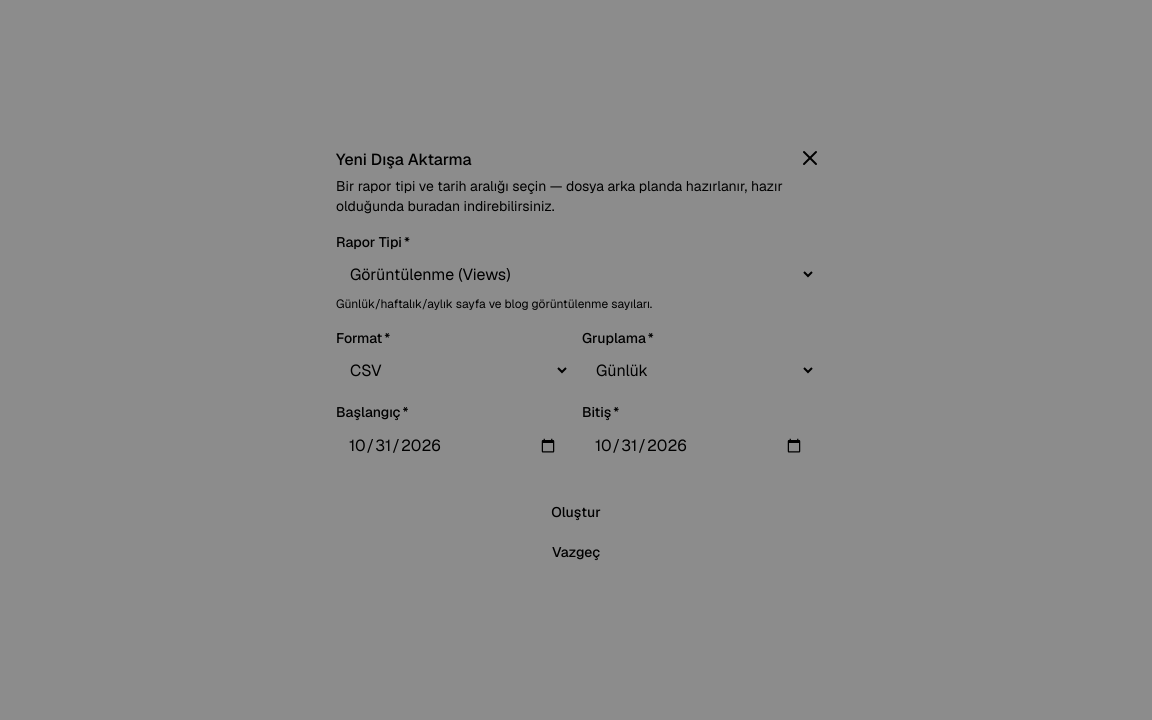
Test: CreateExportDialog — zod doğrulaması › başlangıç tarihi bitiş tarihinden sonraysa gönderim ENGELLENİR ve hata mesajı gösterilir
In the date field labelled "Başlangıç*": (453, 446) [336,428,570,464], type "2026-06-10"
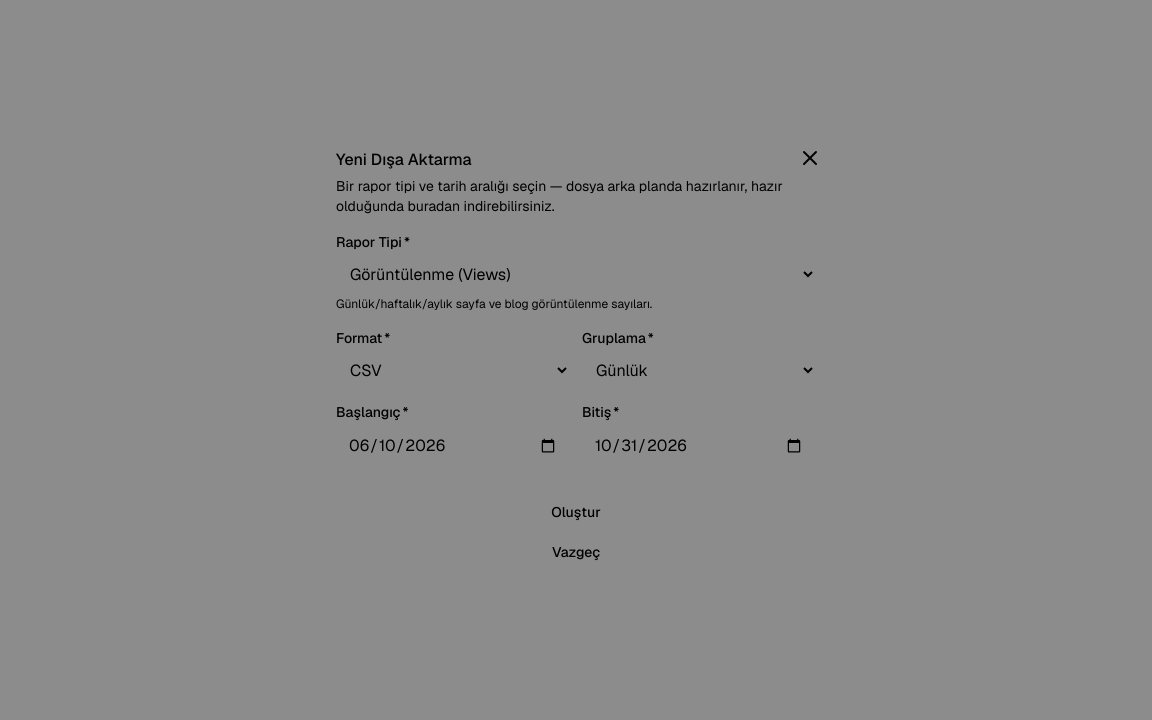
In the date field labelled "Bitiş*": (699, 446) [582,428,816,464], type "2026-06-01"
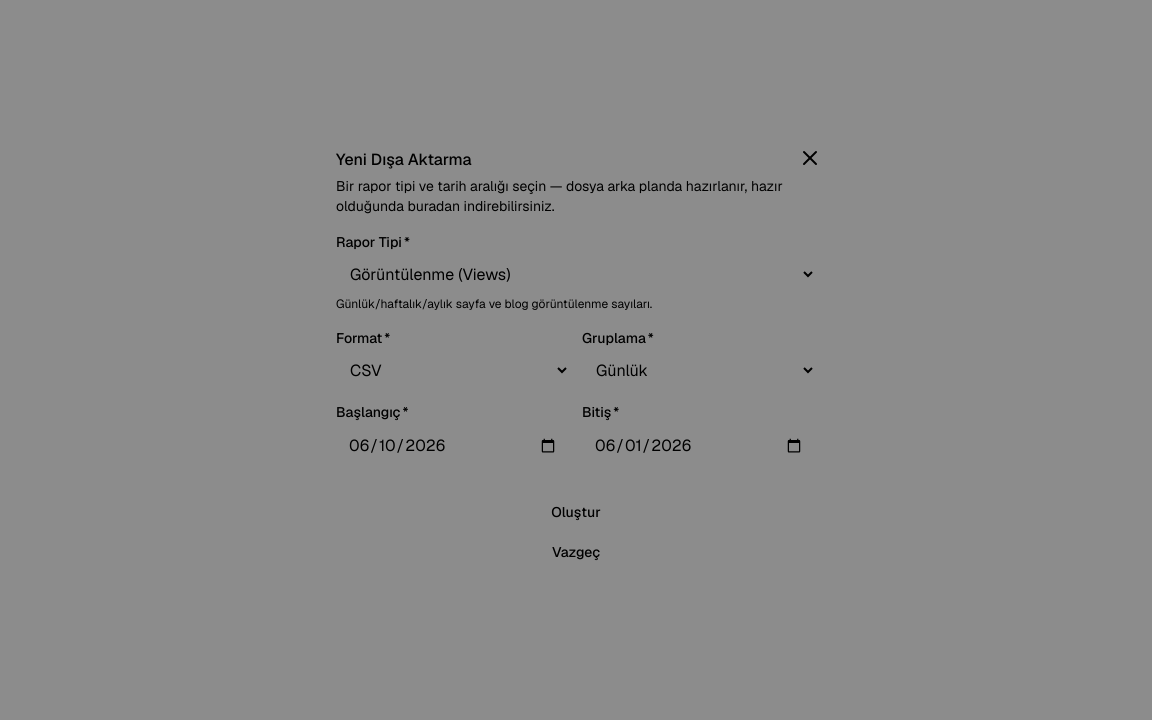
Click the button "Oluştur": (576, 512) [336,496,816,528]
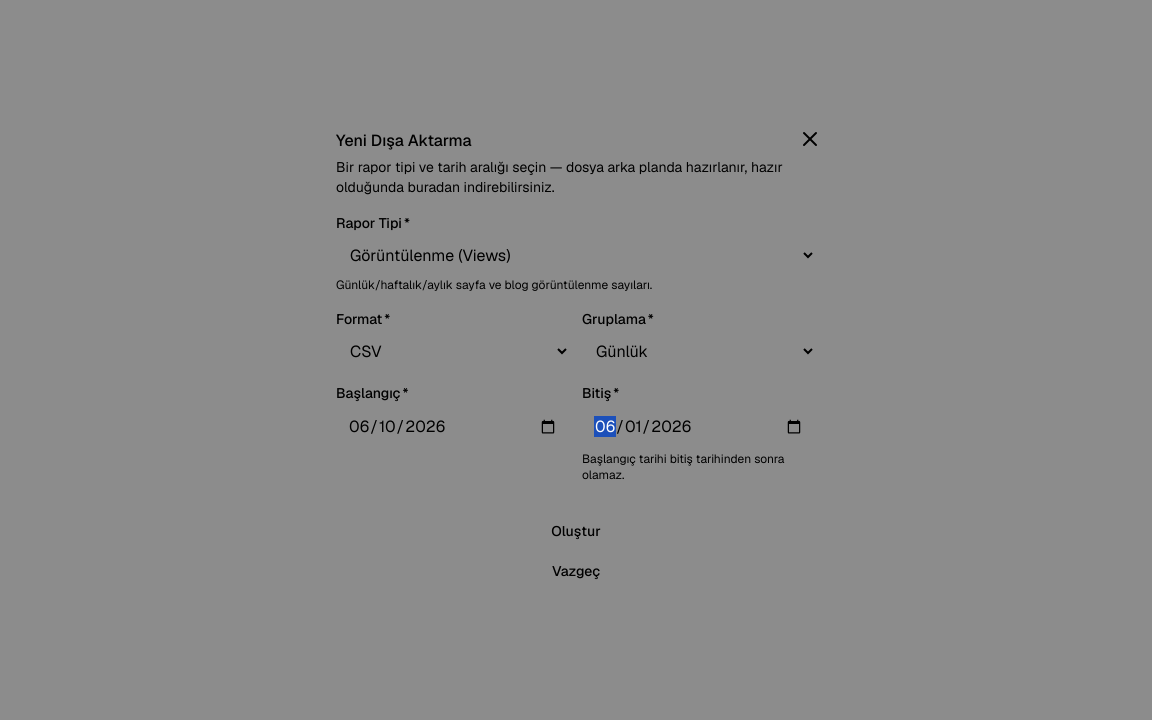
Check: the text "Başlangıç tarihi bitiş tarihinden sonra olamaz." is shown, box [582,451,816,483]
